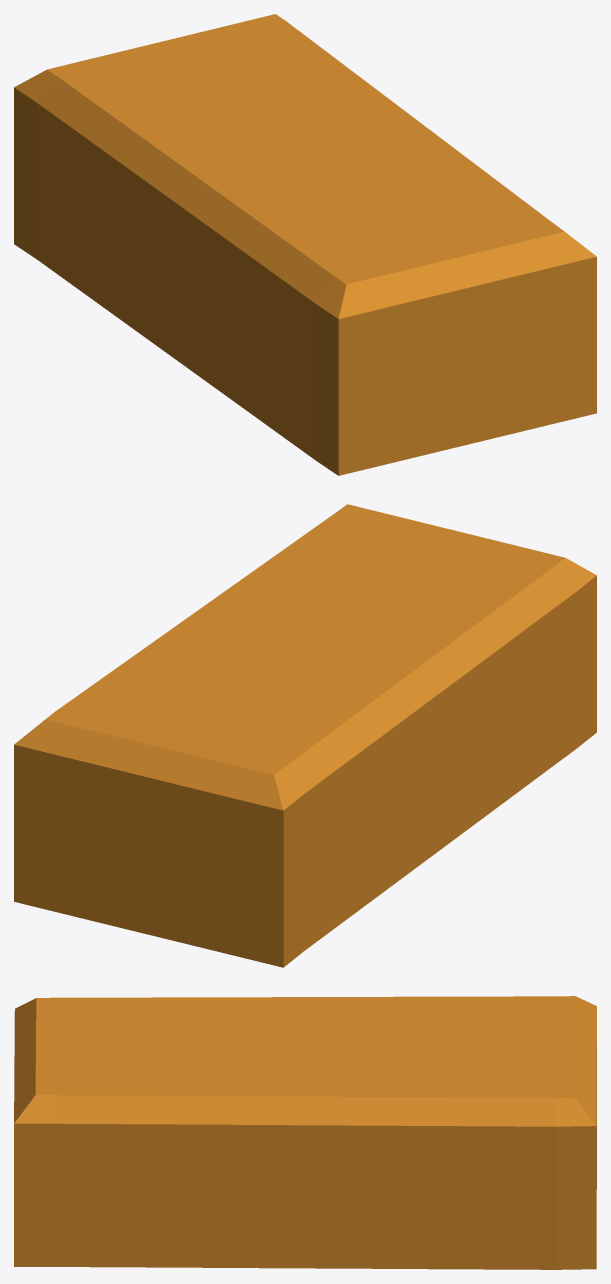
The model's file is Railway_Straight.fbx.
3 views of the same model, one above another, from view 1: azimuth 30°, elevation 25°; view 2: azimuth 150°, elevation 25°; view 3: azimuth 270°, elevation 25° (orthographic). The views are drawn at different scales.
Visible parts, largest first — view 1: Straight.001; view 2: Straight.001; view 3: Straight.001.
Boxes of the visible parts, box(x1,y1,x2,y2) form: Straight.001: box(14, 14, 596, 475); Straight.001: box(14, 504, 596, 967); Straight.001: box(14, 996, 596, 1269).
Size of the model in its own units: 159 by 100 by 325.
